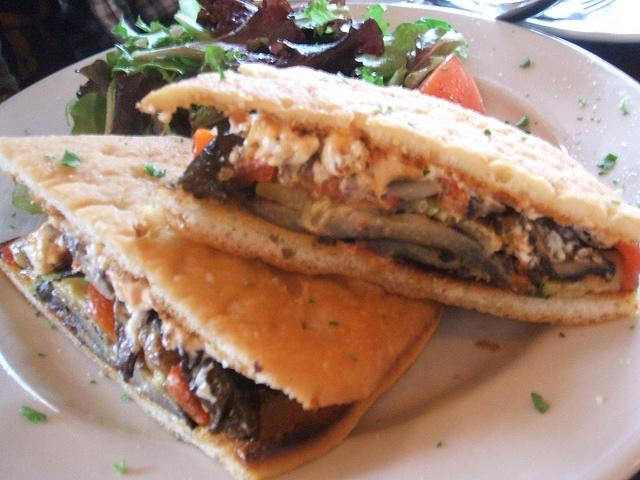lettuce: (241, 18, 386, 78), (112, 31, 232, 82), (386, 26, 468, 89), (355, 20, 432, 85), (112, 70, 154, 129), (196, 0, 259, 39), (112, 12, 170, 48), (65, 92, 107, 136), (173, 11, 216, 41), (361, 2, 392, 38), (104, 77, 118, 134), (354, 66, 386, 85)
tomato: (418, 53, 487, 118), (166, 362, 212, 426), (83, 283, 118, 344), (233, 153, 274, 188), (436, 178, 470, 218), (615, 241, 640, 292), (192, 129, 215, 158), (0, 242, 20, 266), (320, 178, 342, 199), (509, 274, 532, 294), (387, 196, 401, 210)
